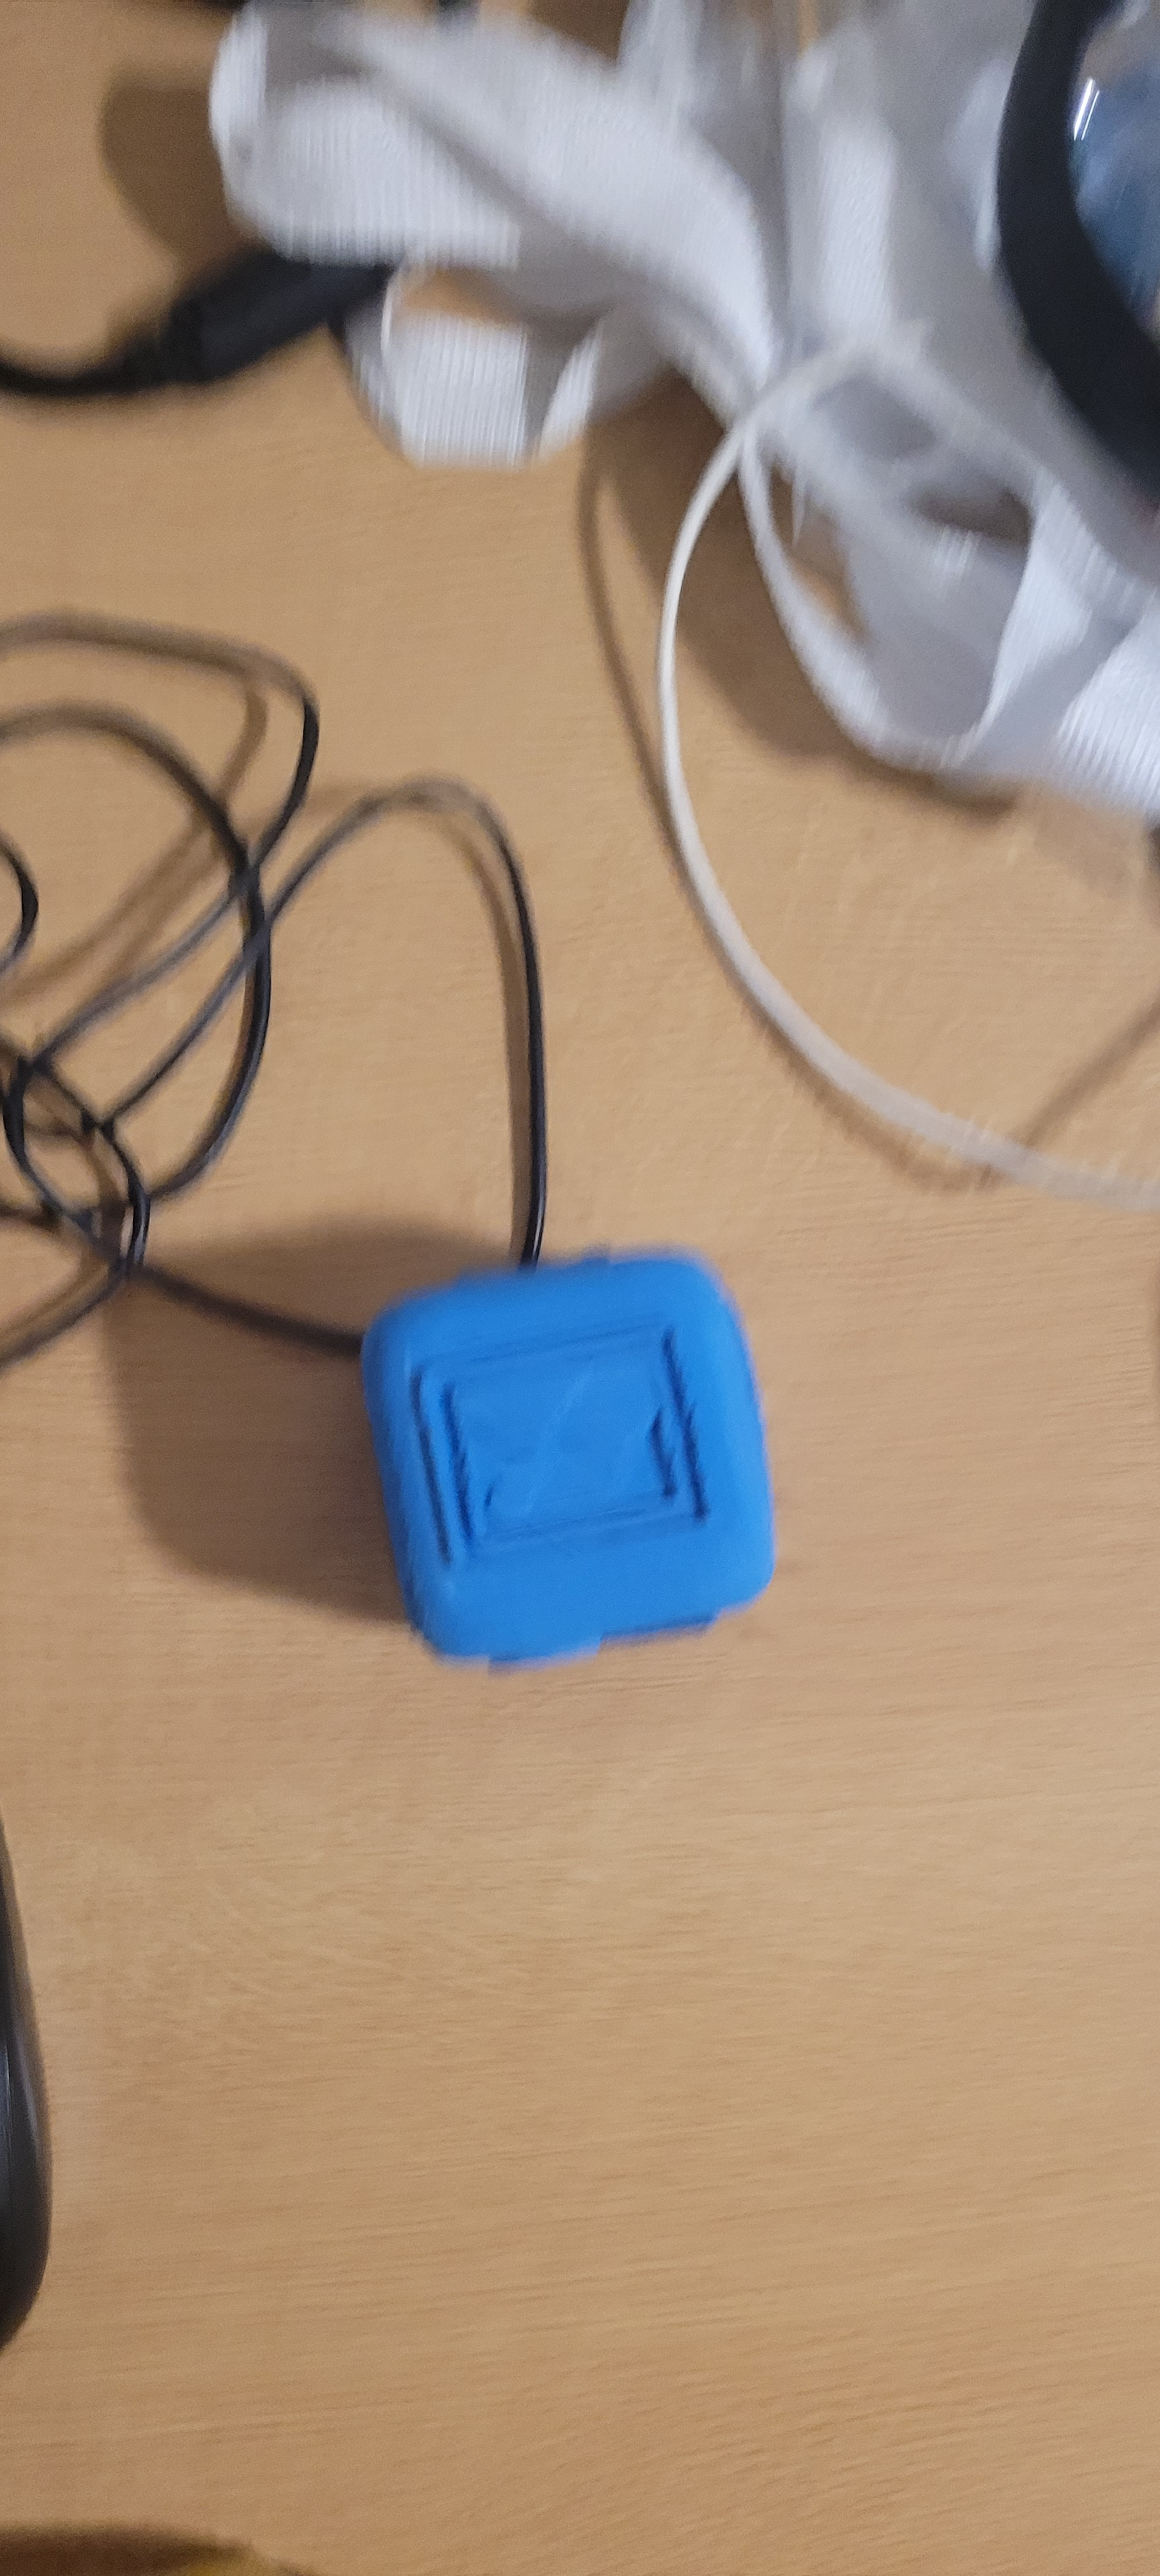Story: (389, 1350, 715, 1580)
